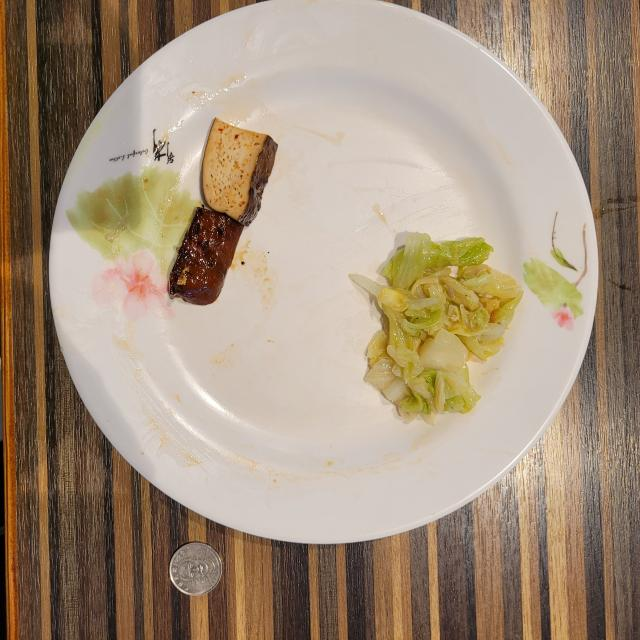cabbage: (351, 232, 522, 420)
coin: (169, 542, 222, 596)
firm tofu: (169, 119, 278, 305)
